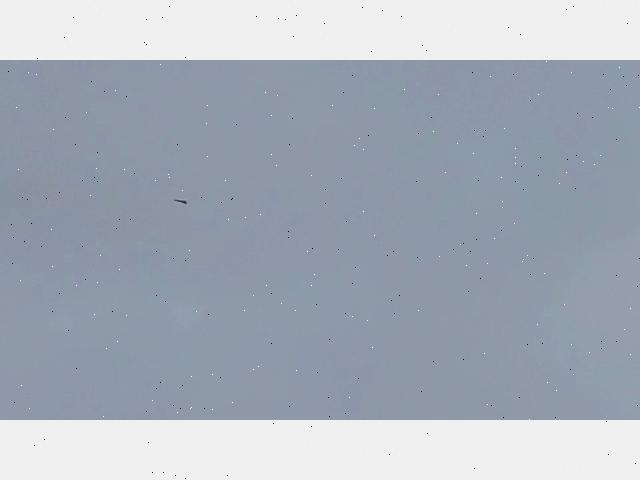Anti-Drone: (172, 198, 190, 206)
